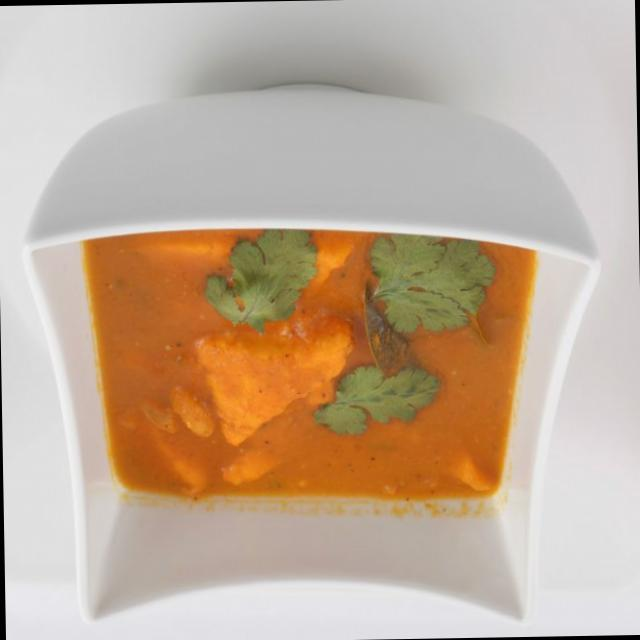ShahiPaneer: (84, 227, 540, 512)
